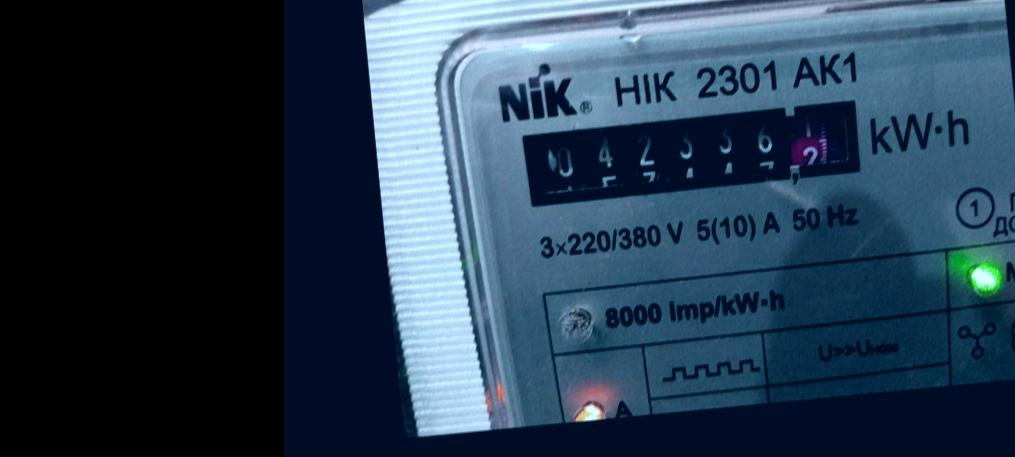0: (554, 143, 577, 180)
1: (800, 111, 815, 141)
2: (634, 132, 657, 169), (800, 145, 821, 168)
3: (712, 120, 736, 158), (674, 124, 697, 163)
4: (594, 133, 616, 171)
6: (751, 119, 777, 156)
screen: (513, 90, 873, 217)
